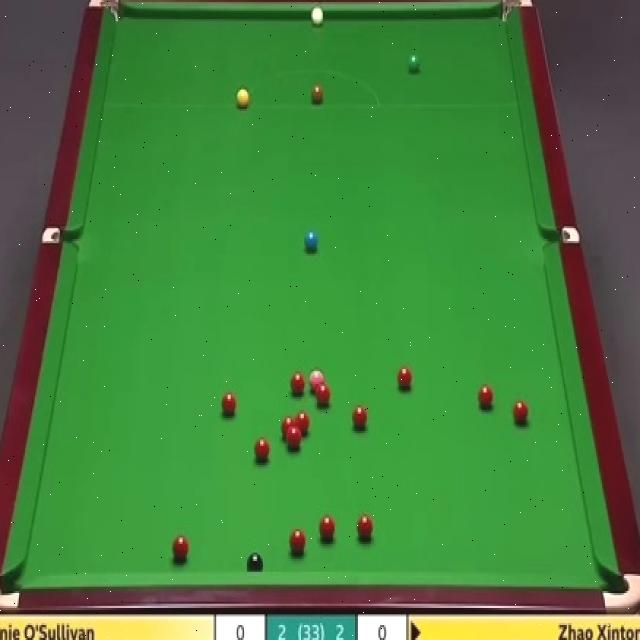black-ball: (246, 553, 263, 570)
blue-ball: (303, 229, 318, 252)
brown-ball: (310, 84, 324, 105)
green-ball: (408, 50, 420, 72)
pink-ball: (308, 368, 324, 393)
red-ball: (171, 533, 190, 560), (252, 435, 270, 463), (318, 515, 336, 543), (476, 382, 494, 410), (512, 401, 530, 429), (219, 390, 238, 416), (288, 527, 306, 554), (286, 425, 302, 454), (292, 410, 310, 435), (352, 404, 368, 429), (357, 515, 374, 538), (291, 372, 305, 398), (397, 366, 413, 388), (282, 416, 296, 441), (316, 386, 331, 406)
white-ball: (310, 6, 324, 25)
yellow-ball: (234, 88, 250, 109)
